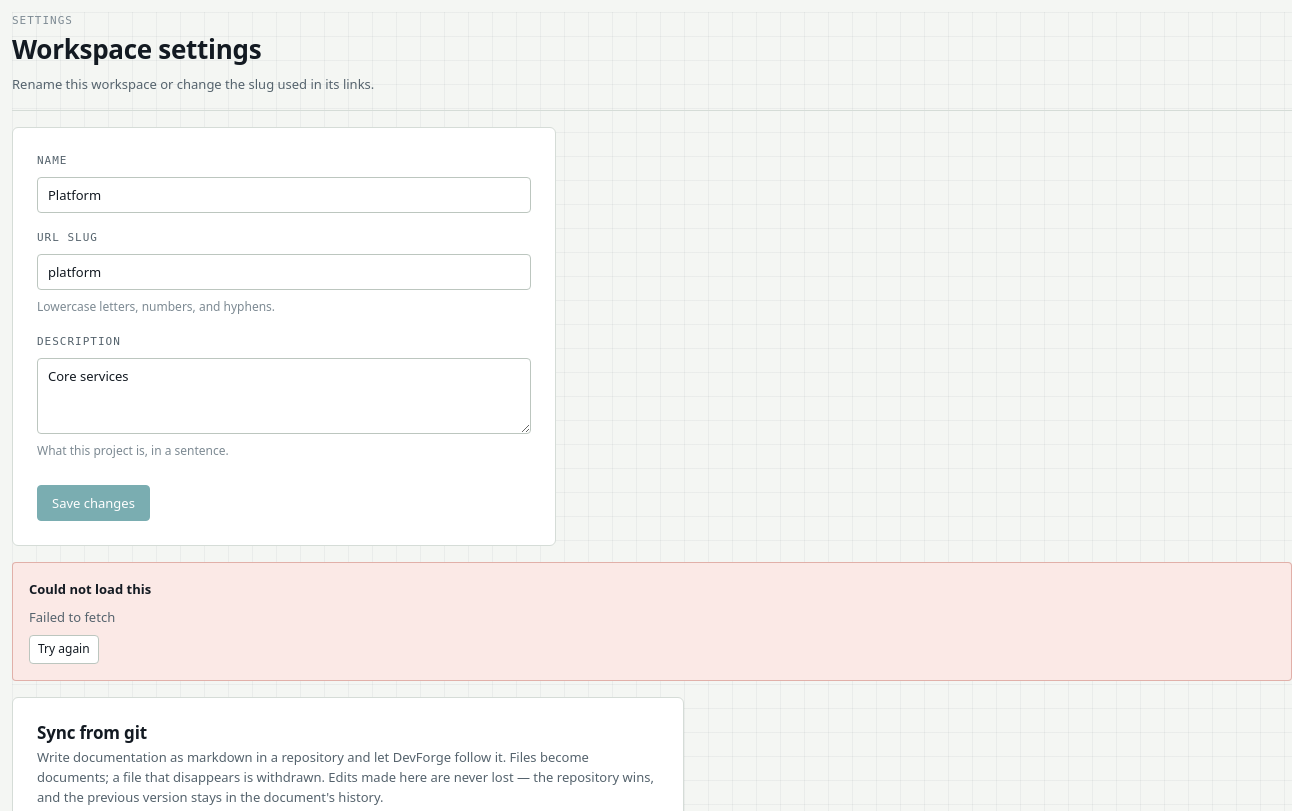
Test: WorkspaceSettingsPage › surfaces a field error from the backend
This screenshot has width=1292, height=811.
Replace the text in the field labelled "URL slug" with "Bad Slug". click: (284, 272)
box: [37,254,531,290]
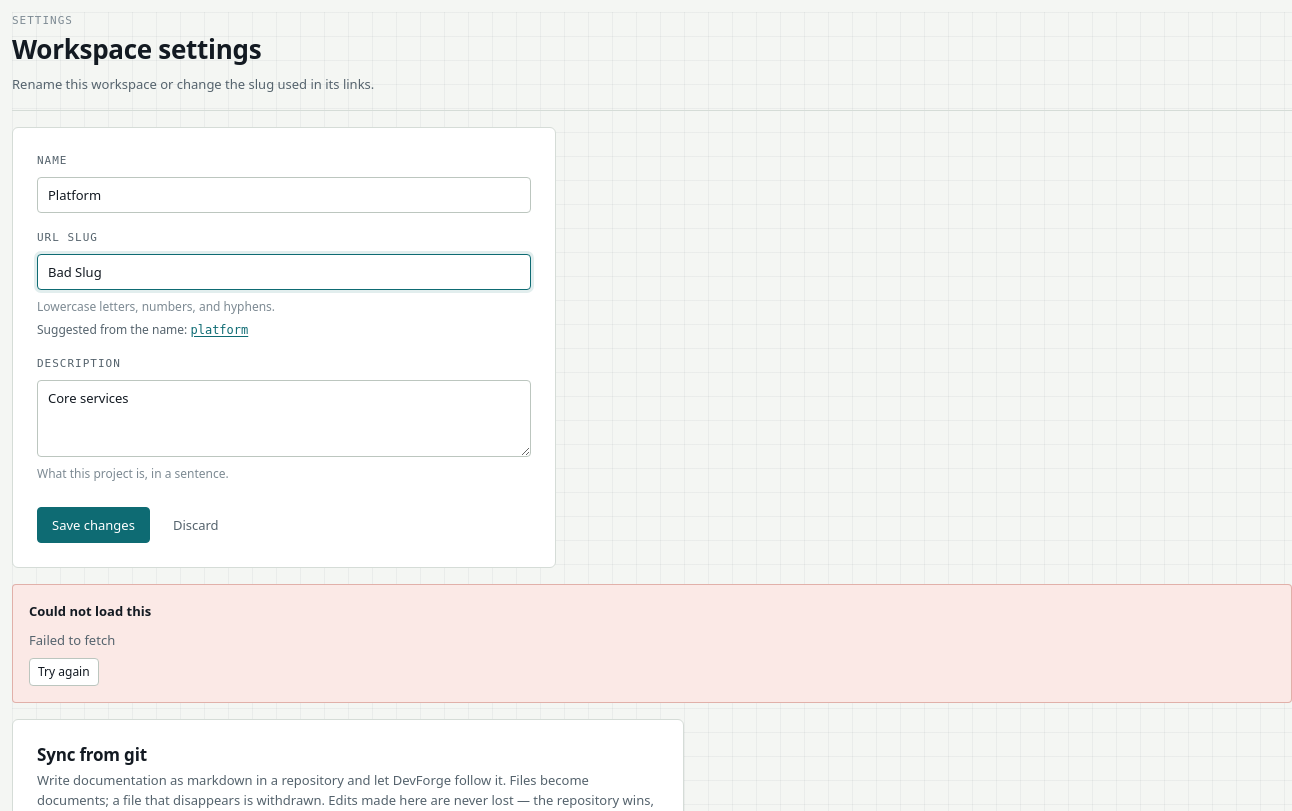
Click the button "Save changes". click: (93, 525)
box: [37,507,150,543]
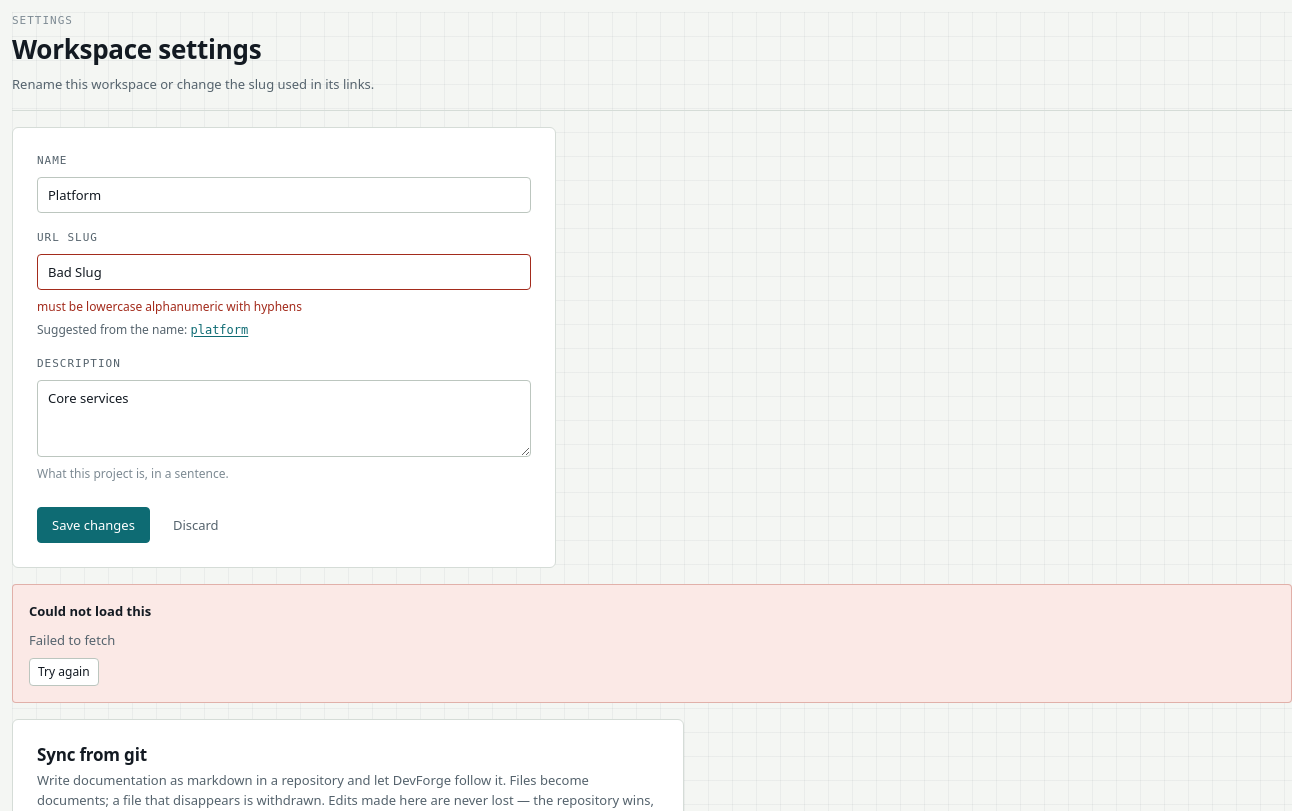
expect the text "must be lowercase alphanumeric with hyphens" is shown: met, box [37,298,302,315]
